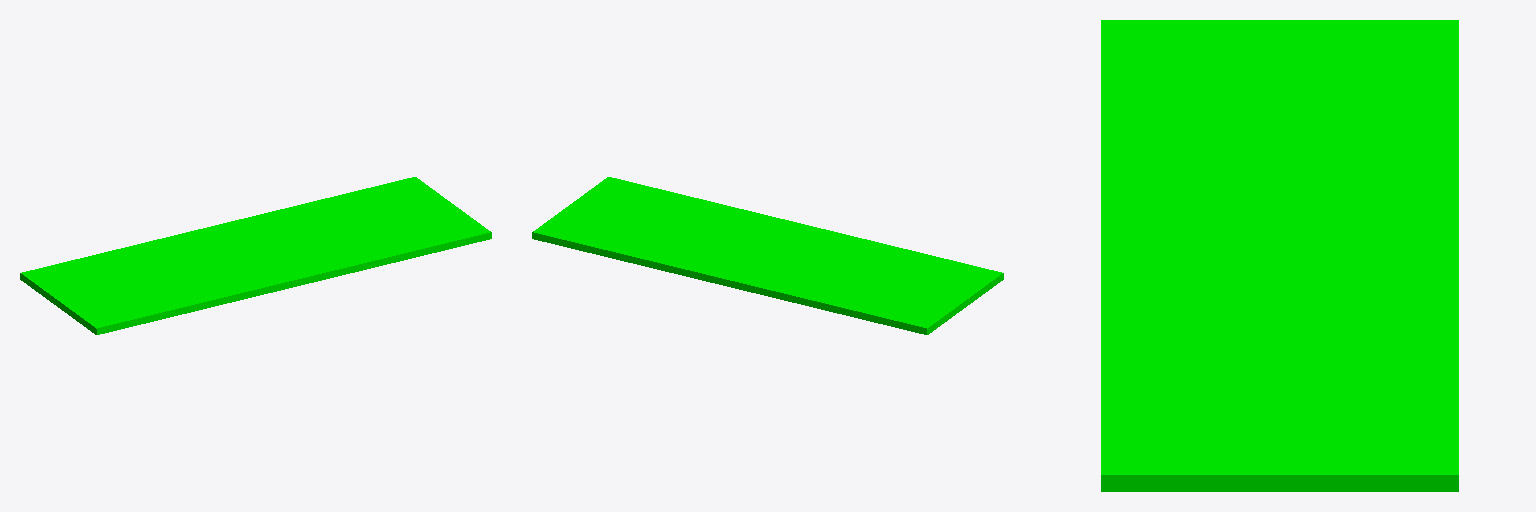
The robot description file, URDF, robot "mat":
<?xml version="1.0"?>

<robot name="mat">
    

    <material name="green">
        <color rgba="0 1 0 1" />
    </material>

    <link name="base_link">

        <inertial>
            <origin rpy="0 0 0" xyz="0 0 0.05" />
            <mass value="100000.0" />
            <inertia ixx="1.0" ixy="0.0" ixz="0.0"
            iyy="0.0" iyz="0.0" izz="1.0" />

        </inertial>

        <visual>        
            <origin rpy="0 0 0" xyz="0 0 0.05" />
            <geometry>
                <box size="3 1 0.05" />
            </geometry>
            <material name="green"/>
        </visual>

        <collision>
            <origin rpy="0 0 0" xyz="0 0 0.05" />
            <geometry>
             <box size="3 1 0.0001" />
            </geometry>
        </collision>

    </link>
</robot>

--- Render facts (derived) ---
3 views of the same robot in one strip: view 1: azimuth 30°, elevation 25°; view 2: azimuth 150°, elevation 25°; view 3: azimuth 270°, elevation 25° (orthographic).
Model mat with 1 links and 0 joints (none), rooted at base_link, posed every joint at zero.
Visible links, largest first — view 1: base_link; view 2: base_link; view 3: base_link.
Link boxes in pixels (<box>): base_link: <box>20,177,491,334</box>; base_link: <box>532,177,1003,334</box>; base_link: <box>1101,20,1458,491</box>.
Bounding box of the posed robot: 3 × 1 × 0.05 m (x, y, z).
Geometry: primitives only (box / cylinder / sphere), no mesh files.